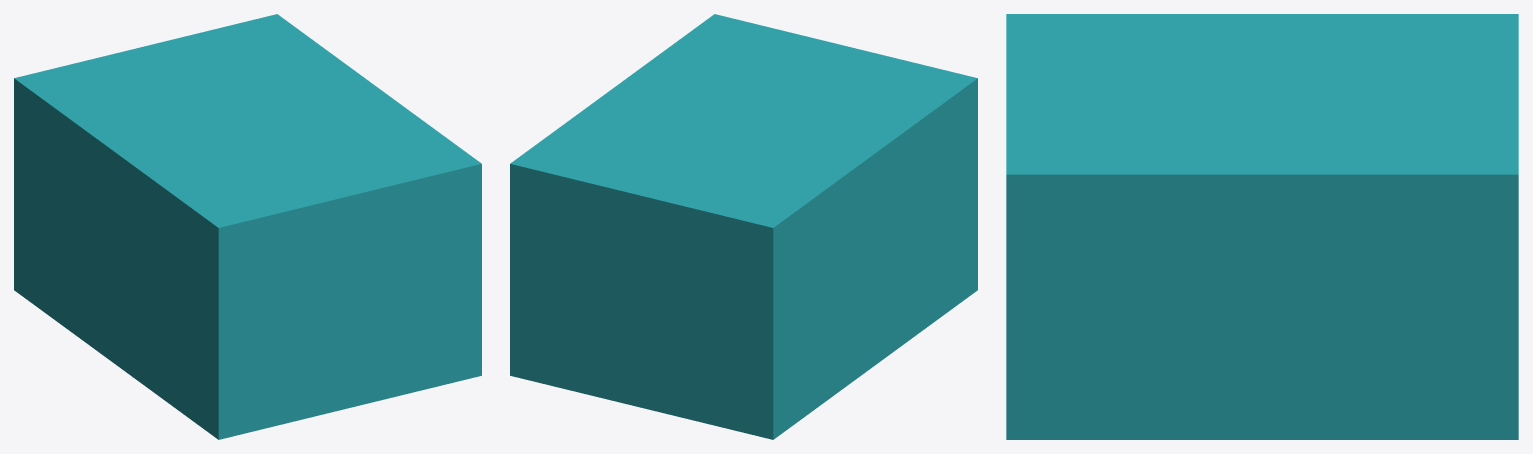
File: dehumidifier.glb
3 views of the same model, side by side, from view 1: azimuth 30°, elevation 25°; view 2: azimuth 150°, elevation 25°; view 3: azimuth 270°, elevation 25° (orthographic). The views are drawn at different scales.
Visible parts, largest first — view 1: world; view 2: world; view 3: world.
Boxes of the visible parts, left/top/right/bottom form: world: left=14, top=14, right=481, bottom=439; world: left=510, top=14, right=977, bottom=439; world: left=1006, top=14, right=1518, bottom=439.
Size of the model in its own units: 0.52 by 0.435 by 0.7.
